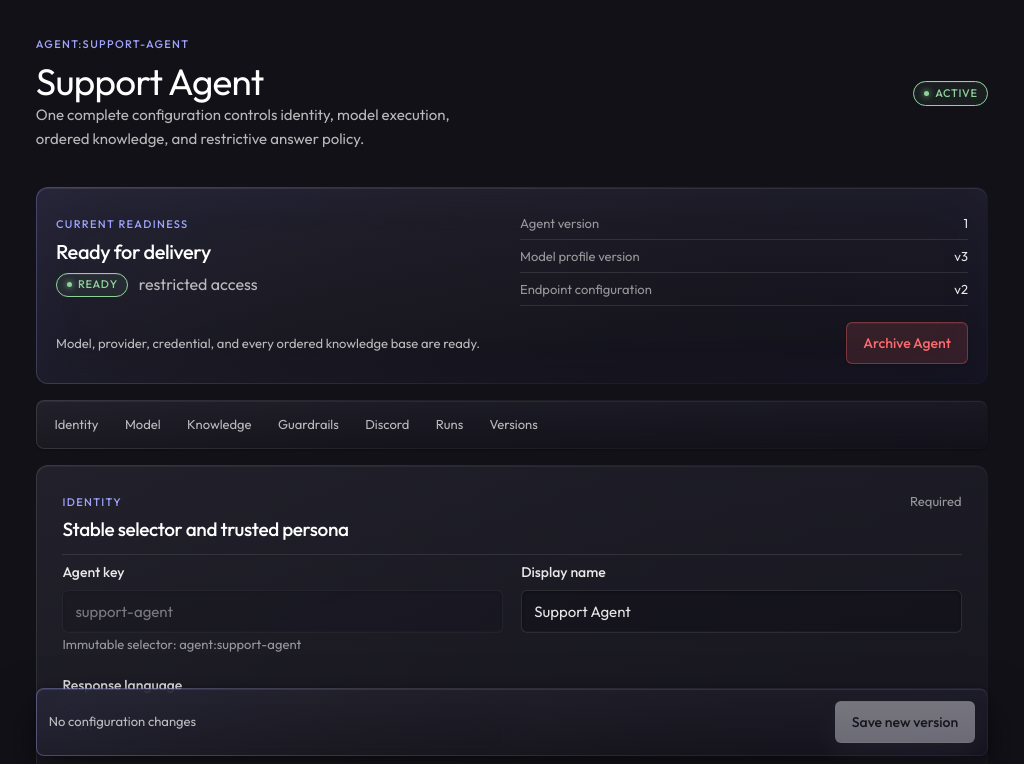
Test: active configuration and lifecycle readiness races render typed issues without mislabeling stale conflicts
Replace the text in the field labelled "Display name" with "Unready candidate" at (741,612), box [521,590,962,633]
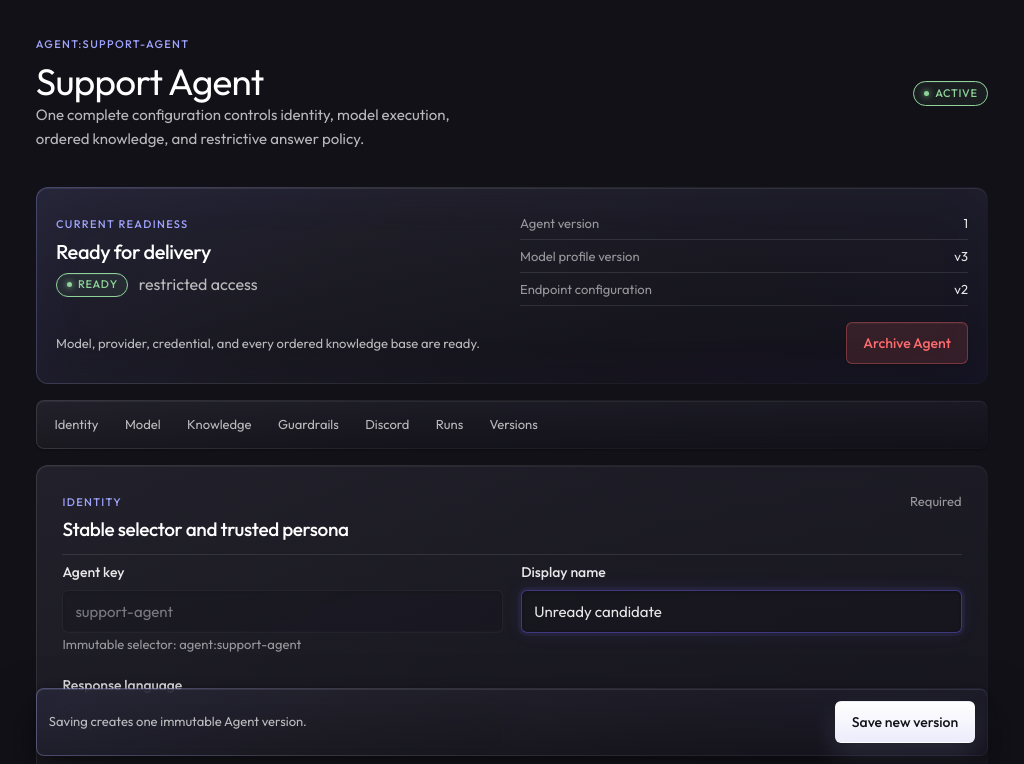
Click the button "Save new version".
click(905, 722)  # box [835,701,975,743]
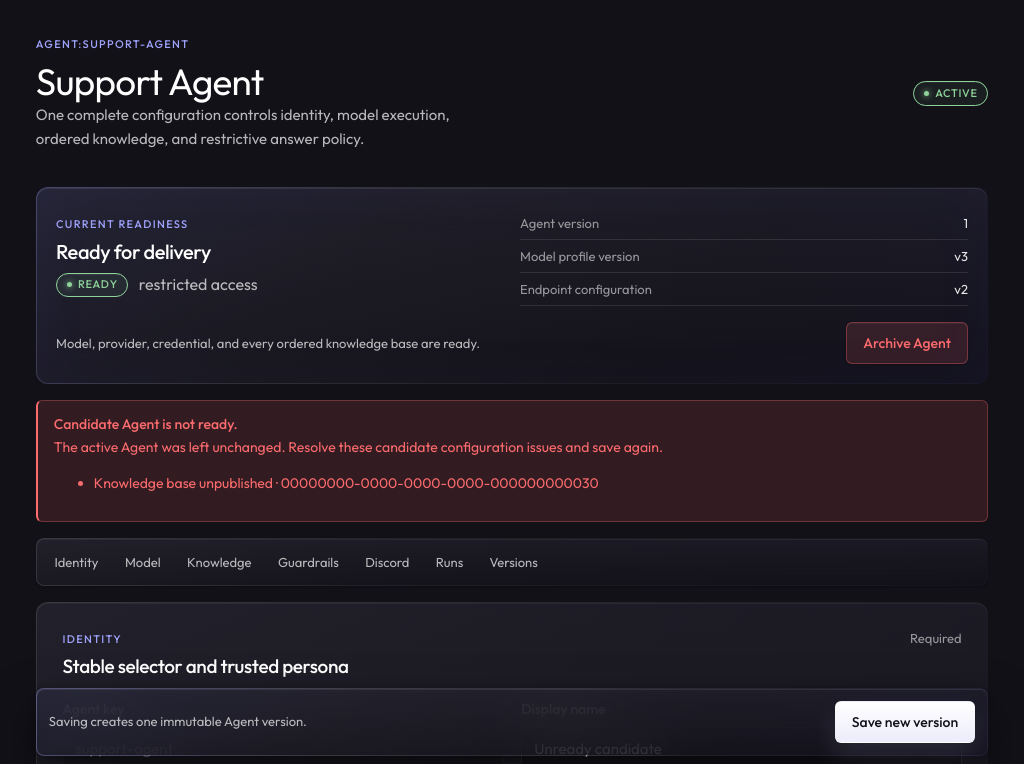
Expected: the text "Candidate Agent is not ready." is shown, [54,415,238,433]
Expected: the text "active Agent was left unchanged" is shown, [54,438,663,456]
Click the button "Save new version".
click(905, 722)  # box [835,701,975,743]
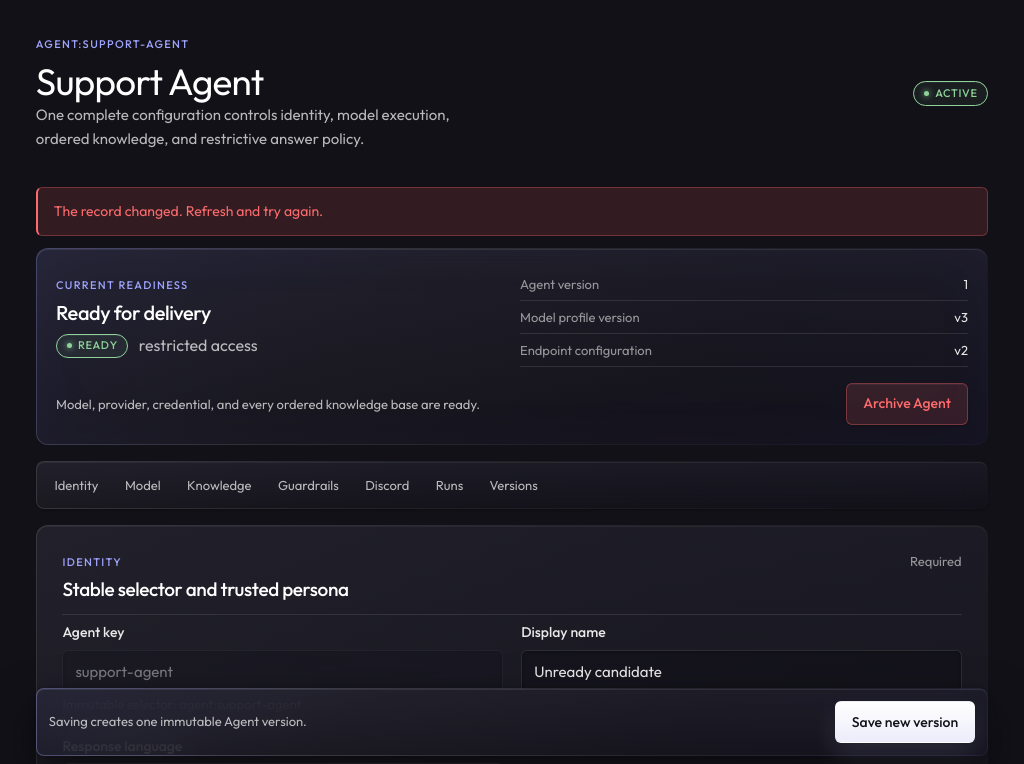
Expected: the text "Candidate Agent is not ready." is gone
Expected: the message no longer shows "Candidate", [36,187,988,236]
